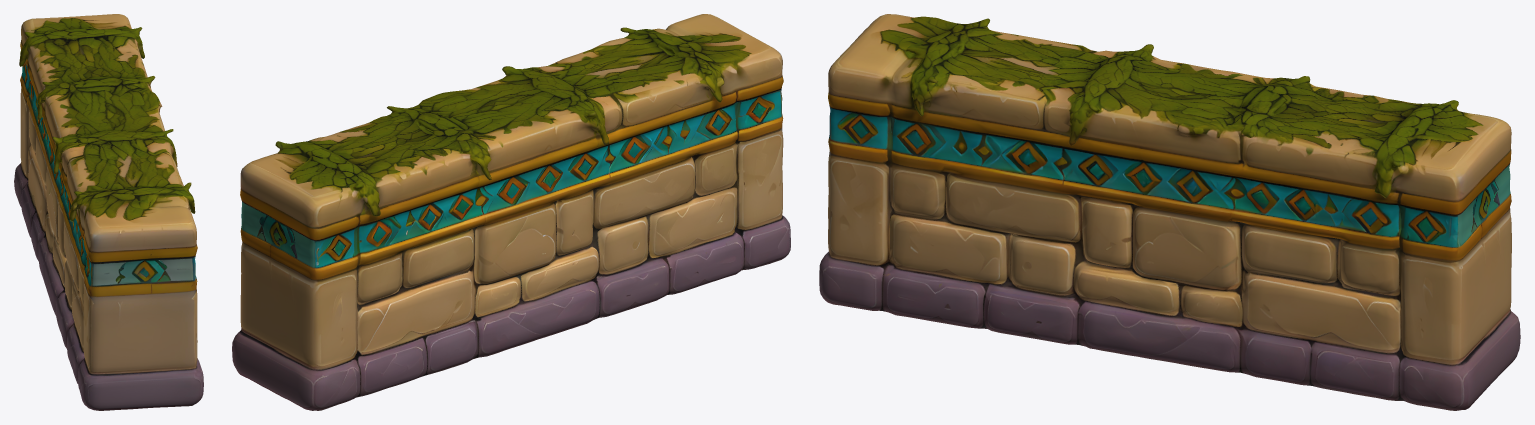
The model's file is 12-garden-straight-wall.glb.
The picture shows the model from 3 angles, left to right: view 1: azimuth 30°, elevation 25°; view 2: azimuth 150°, elevation 25°; view 3: azimuth 270°, elevation 25°; orthographic projection. The views are drawn at different scales.
Parts seen in each view (by area): view 1: tripo_node_e25fa84f; view 2: tripo_node_e25fa84f; view 3: tripo_node_e25fa84f.
Part boxes in pixels (x1,y1,x2,y2): tripo_node_e25fa84f: [14, 14, 203, 410]; tripo_node_e25fa84f: [232, 14, 790, 410]; tripo_node_e25fa84f: [819, 14, 1520, 410].
Size of the model in its own units: 0.5922 by 0.4 by 1.02.
Materials: 1 (1 with a texture image).
